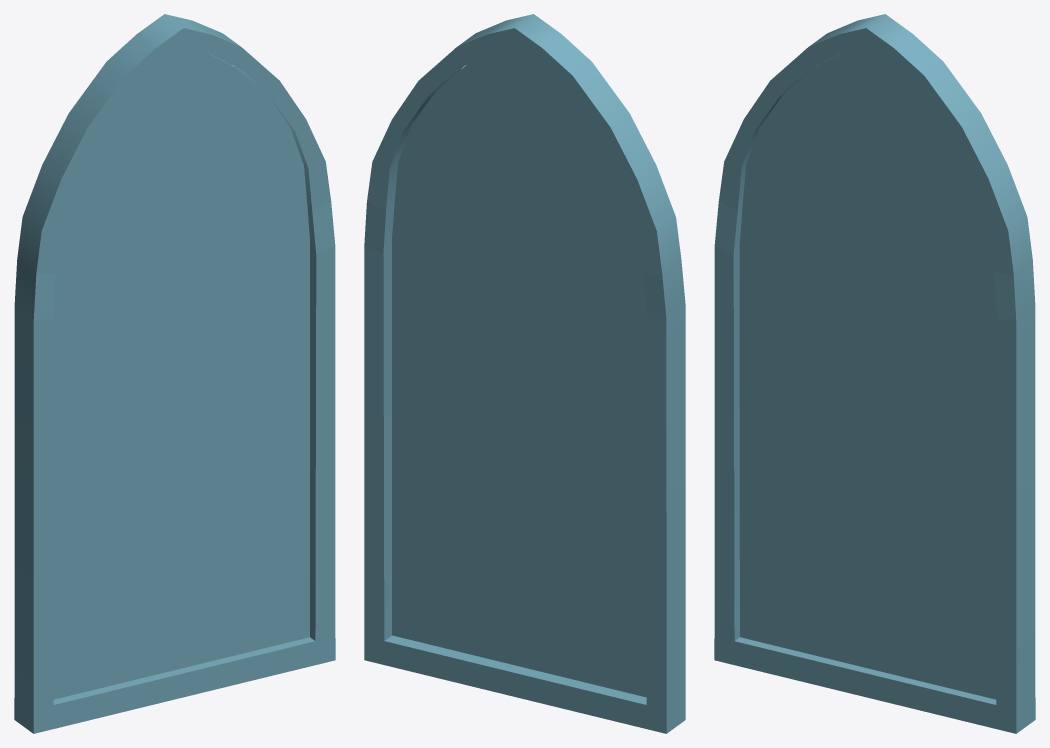
File: Cathedral_door3.FBX
The picture shows the model from 3 angles, left to right: view 1: azimuth 30°, elevation 25°; view 2: azimuth 150°, elevation 25°; view 3: azimuth 330°, elevation 25°; orthographic projection.
Parts seen in each view (by area): view 1: Door2_small002, Door2frame_small002; view 2: Door2_small002, Door2frame_small002; view 3: Door2_small002, Door2frame_small002.
Boxes of the visible parts, x1,y1,x2,y2 form: Door2_small002: (53, 47, 309, 699); Door2frame_small002: (14, 14, 335, 733); Door2_small002: (392, 47, 647, 697); Door2frame_small002: (364, 14, 685, 733); Door2_small002: (739, 47, 996, 699); Door2frame_small002: (714, 14, 1035, 733).
Bounding box in the file's own units: 159 × 18.27 × 337.
